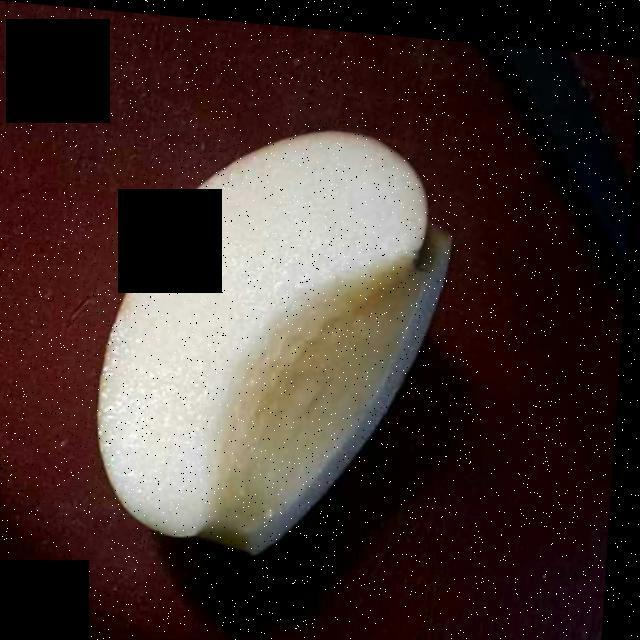apple: (111, 127, 435, 538)
